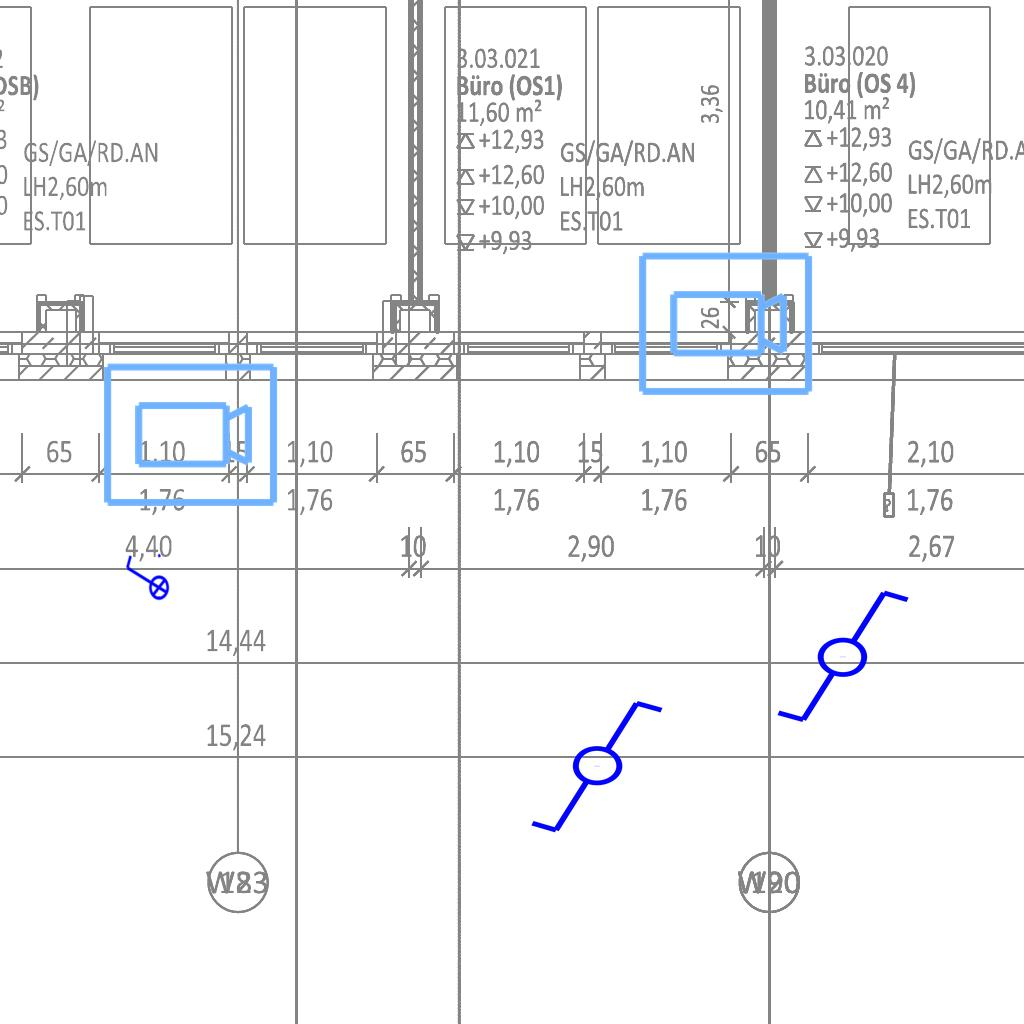Ausschalter_beleuchtet: (122, 551, 170, 607)
KFO_Kamera_mit_Festobjektiv: (634, 248, 816, 402), (99, 359, 281, 513)
Wechselschalter: (527, 696, 684, 840), (756, 583, 913, 727)
